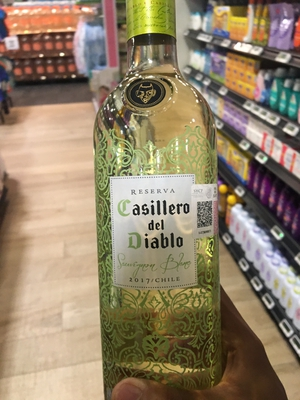casillero del diablo sauvignon blanc: (88, 14, 235, 400)
